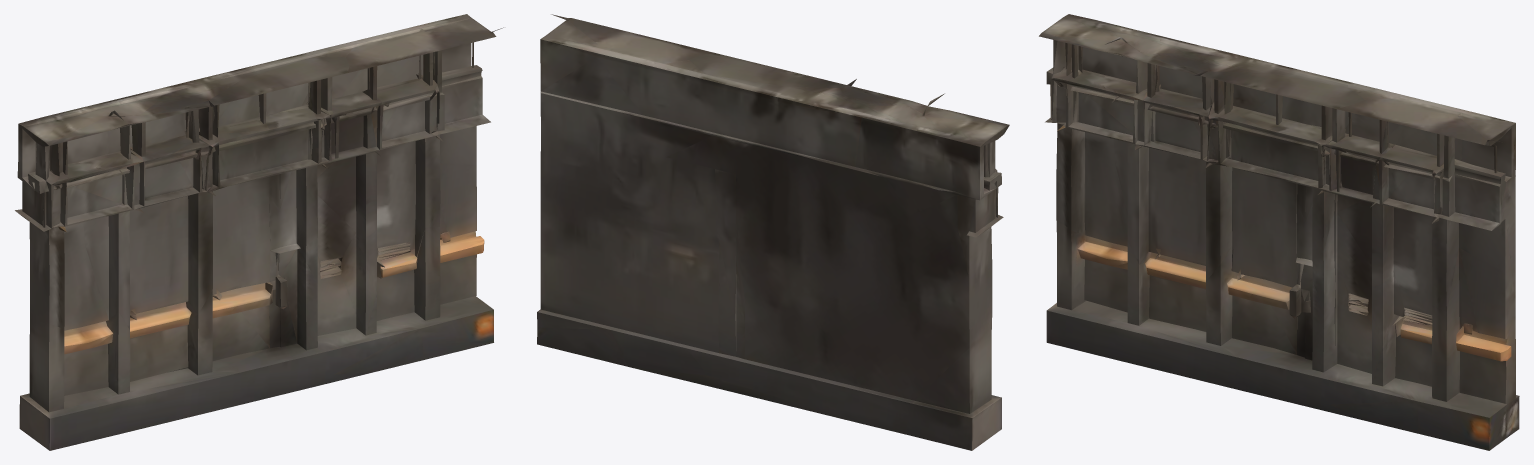
File: m2FactoryHallBg.glb
3 renders of one model, left to right at view 1: azimuth 30°, elevation 25°; view 2: azimuth 150°, elevation 25°; view 3: azimuth 330°, elevation 25°, orthographic.
Visible parts, largest first — view 1: model; view 2: model; view 3: model.
Boxes of the visible parts, x1,y1,x2,y2 form: model: [15, 14, 503, 450]; model: [537, 14, 1009, 450]; model: [1039, 14, 1519, 450].
Bounding box in the file's own units: 1.92 × 1.27 × 0.2879.
Materials: 1 (1 with a texture image).
